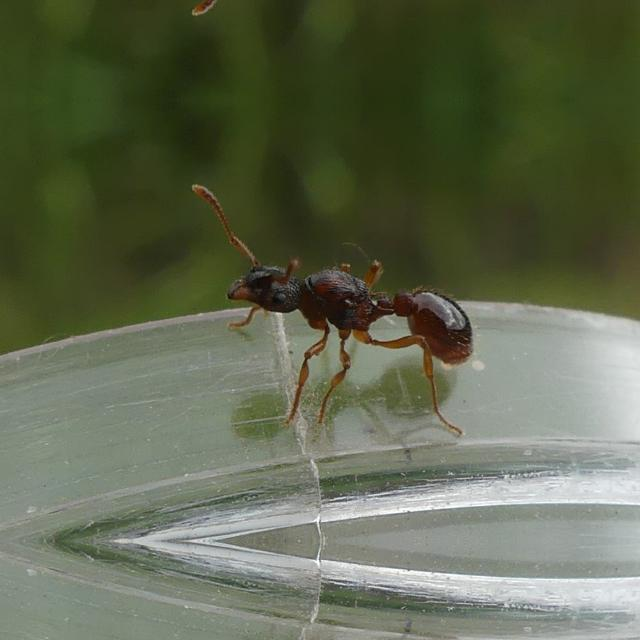Myrmica: (185, 216, 475, 398)
